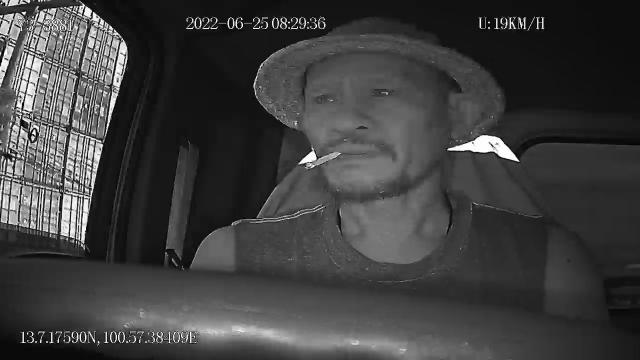SafeDriving: (363, 78, 403, 102), (309, 87, 344, 108)
Smoking: (306, 151, 344, 171)
